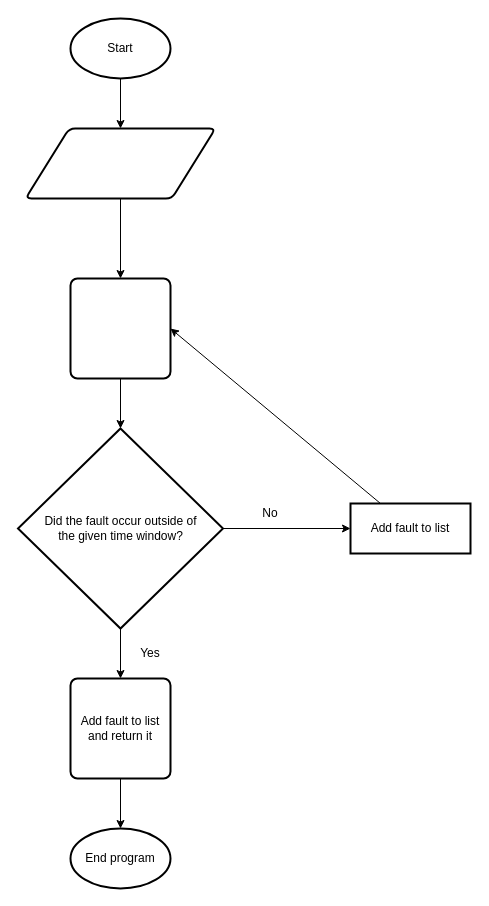
Image size: 489x906. Some labels were removed from this diagram. The box of each missing label's shape, as (x1, y1, x2, y2) in pixels:
Fault in vehicle's history Time window: (24, 127, 216, 199)
Retrieve previous fault in fault history: (69, 277, 171, 379)
